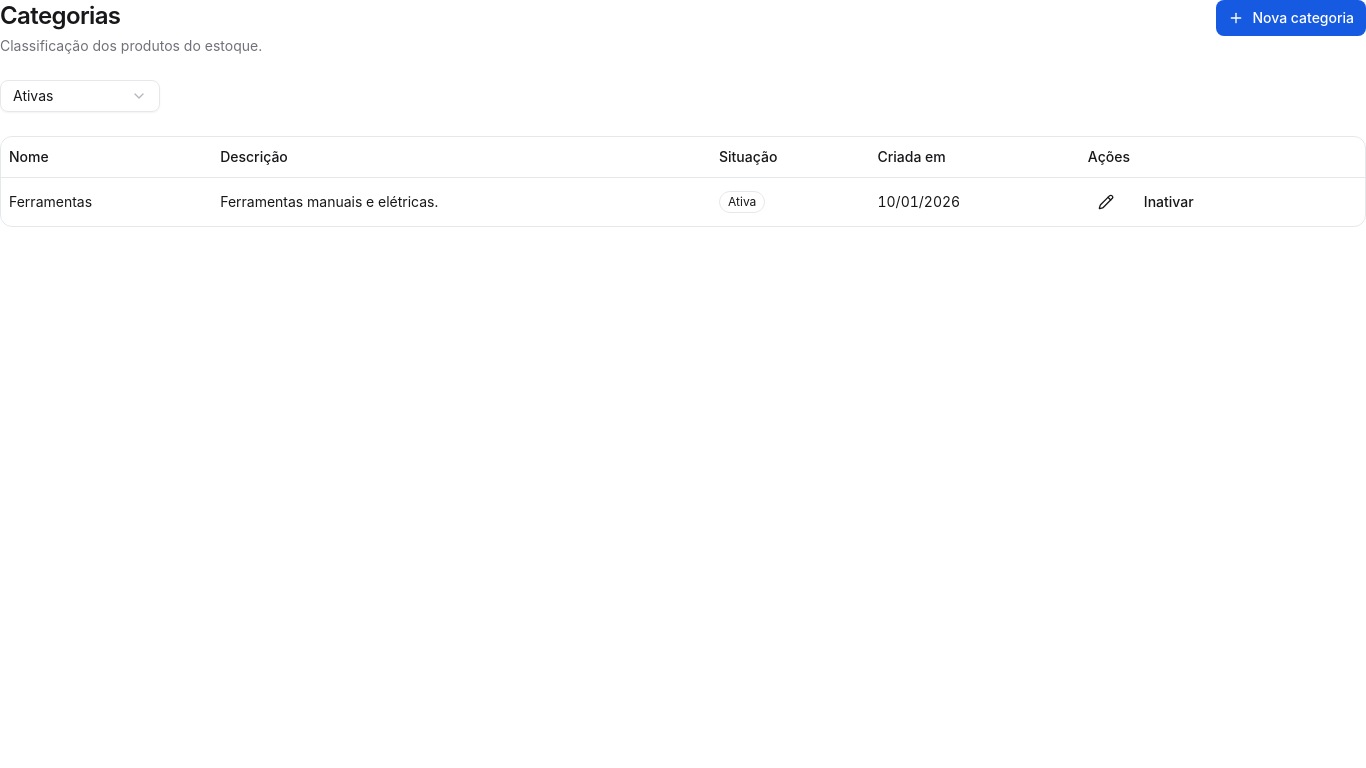
Test case: CategoriesPage › inativação › categoria com produto vinculado: CATEGORY_HAS_PRODUCTS vira mensagem compreensível
Click the button "Inativar" at (1169, 202), box [1132,186,1206,218]
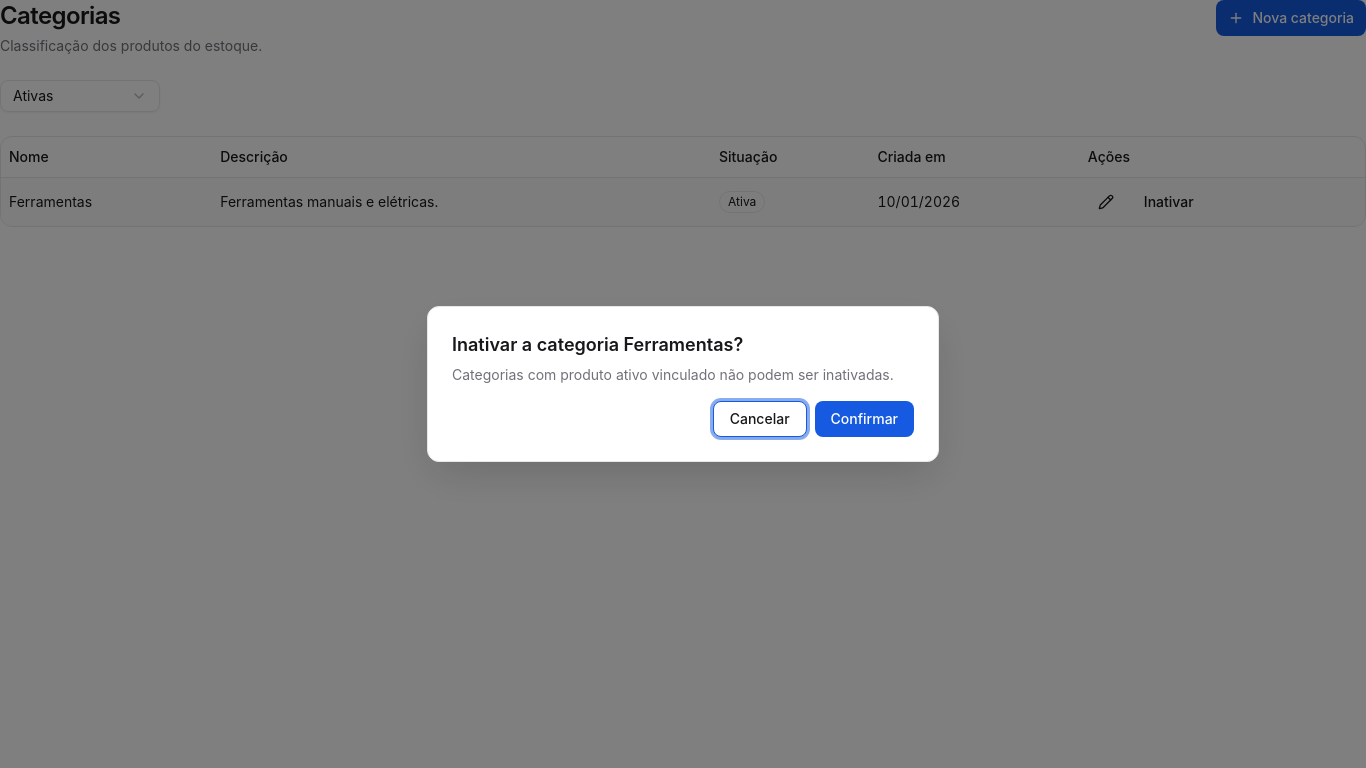
Click the button "Confirmar" at (864, 419), box [815,401,914,437]
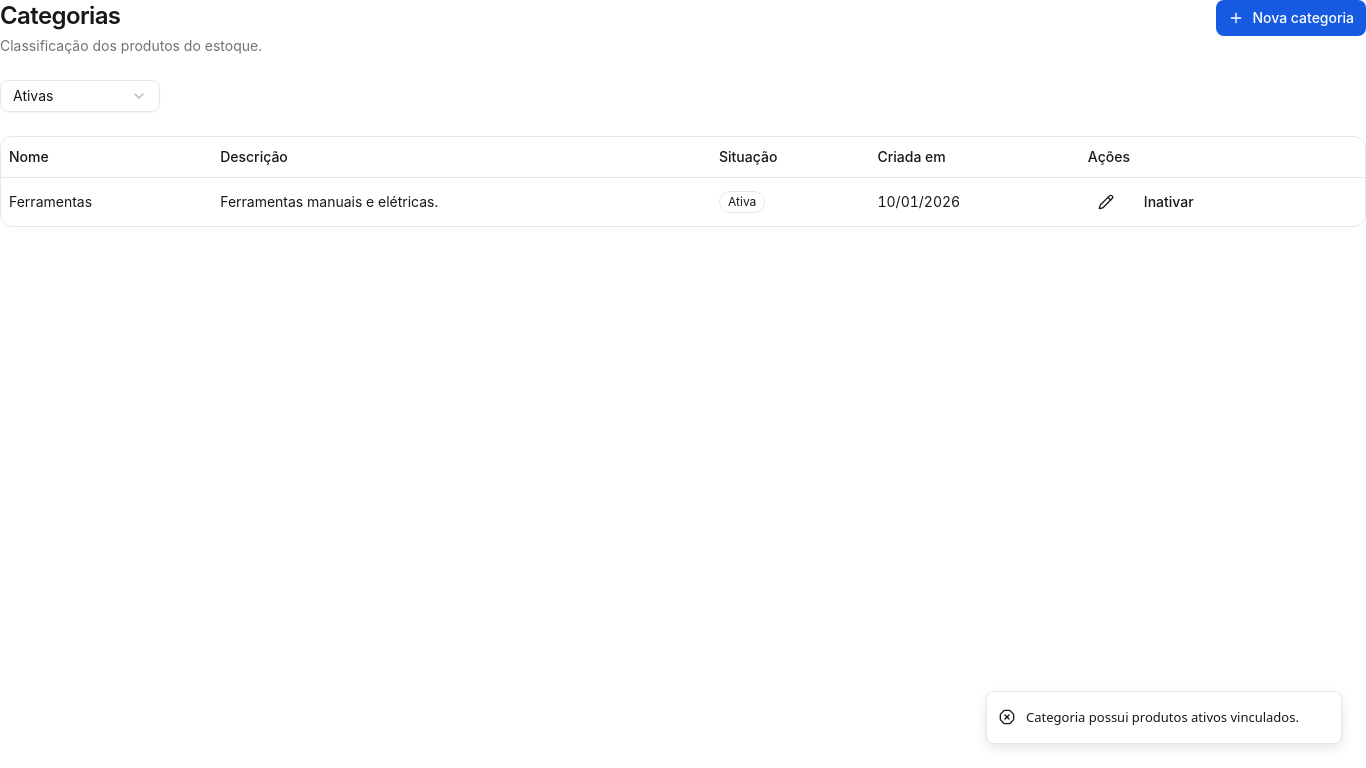
Expected: the button "Inativar" is shown, [1132,186,1206,218]
Expected: the text "Categoria possui produtos ativos vinculados." is shown, [1026,708,1299,727]
